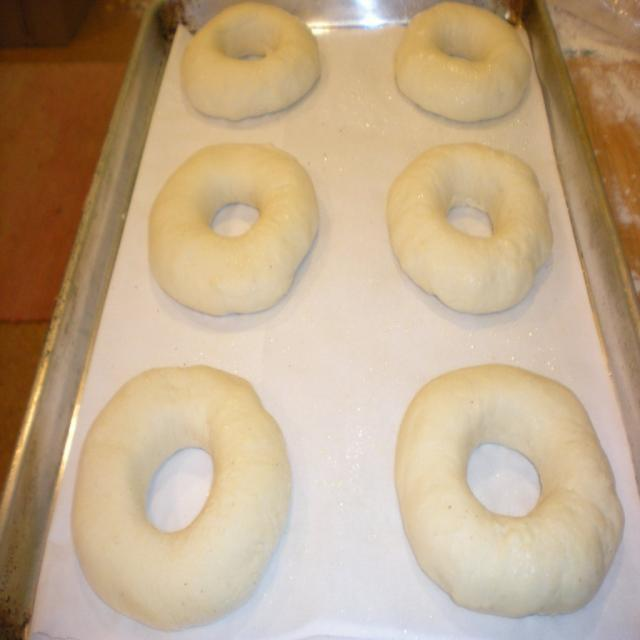Bagel: (393, 360, 626, 618), (71, 364, 292, 632), (148, 137, 320, 314), (384, 143, 554, 316), (394, 0, 534, 124), (180, 2, 320, 118)
